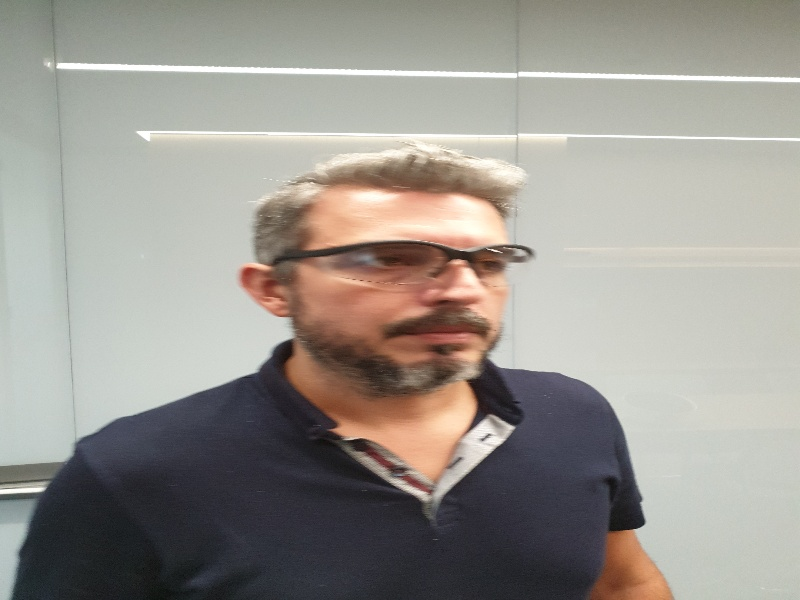Gozluk: (279, 241, 536, 289)
